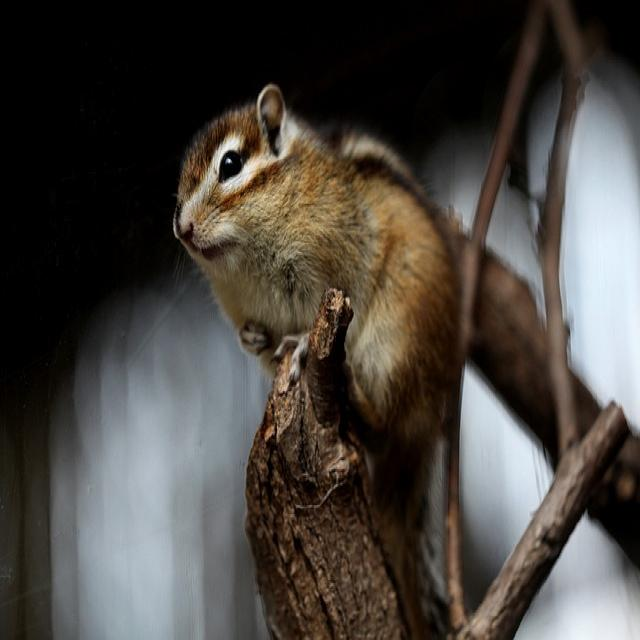Herbivorous: (171, 85, 467, 640)
